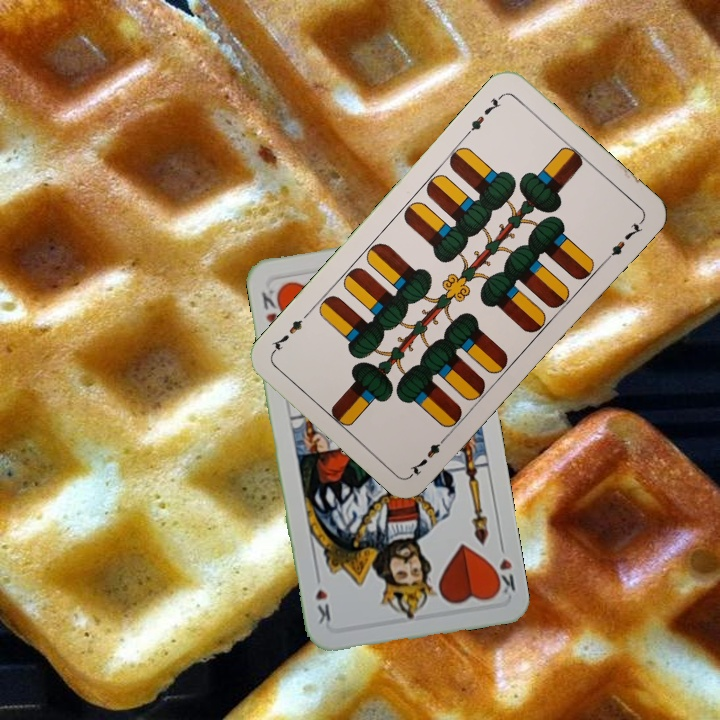E7: (406, 430, 451, 479), (462, 90, 506, 139)
HK: (488, 538, 518, 598), (257, 285, 286, 327)
